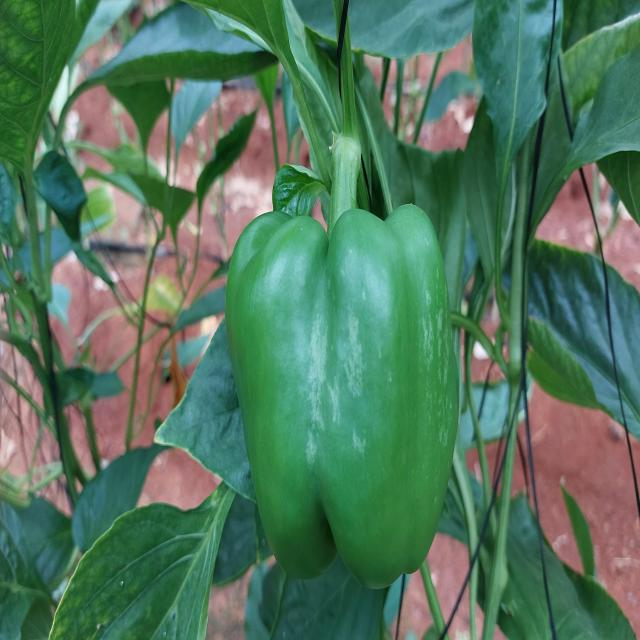Green--Not-ready-to-harvest: (224, 229, 443, 575)
